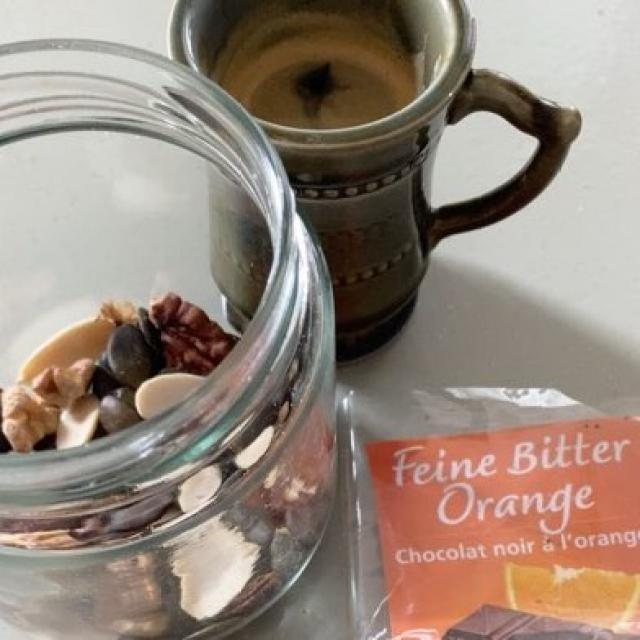coffee: (211, 16, 416, 124)
mixed-nuts: (9, 295, 224, 448)
